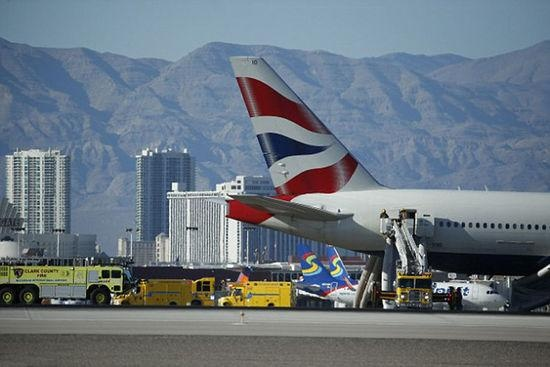airplane: (211, 57, 550, 311)
